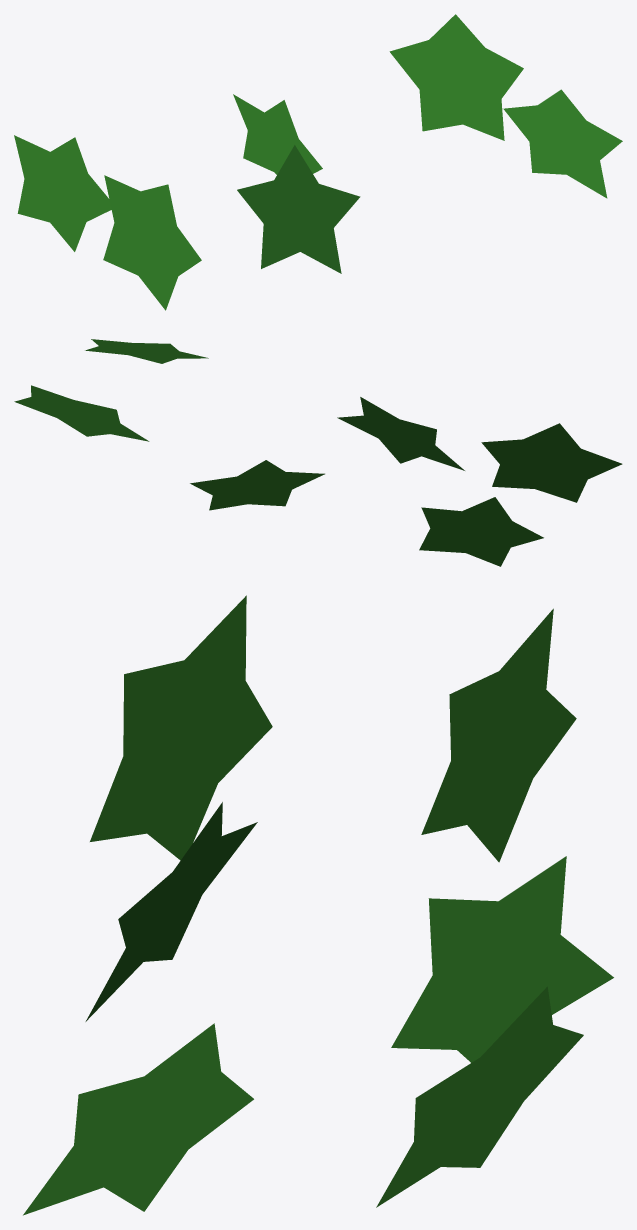
3 views of the same model, one above another, from view 1: azimuth 30°, elevation 25°; view 2: azimuth 150°, elevation 25°; view 3: azimuth 270°, elevation 25° (orthographic). The views are drawn at different scales.
Visible parts, largest first — view 1: r5c5_l10; view 2: r5c5_l10; view 3: r5c5_l10.
Part boxes in pixels (left/top/right/bottom): r5c5_l10: left=14, top=14, right=622, bottom=310; r5c5_l10: left=14, top=339, right=622, bottom=566; r5c5_l10: left=23, top=595, right=613, bottom=1215.
Bounding box in the file's own units: 1.52 × 0.3223 × 0.7353.
